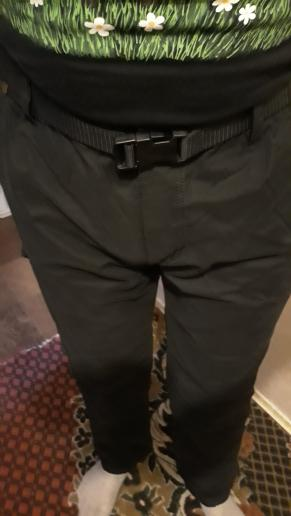pants: (3, 76, 291, 501)
